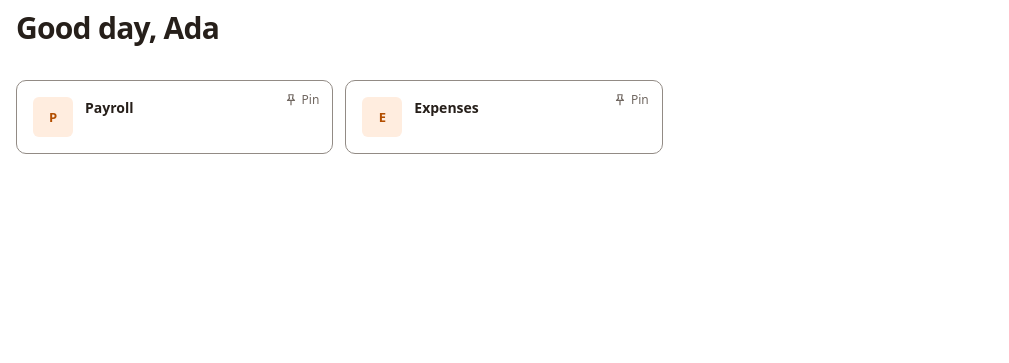
Test: Pinned and recently used › pins a tile into a row of its own, and remembers it for this user
Click the button with aria-label "Pin Expenses" at [631, 100], box [607,88,655,112]
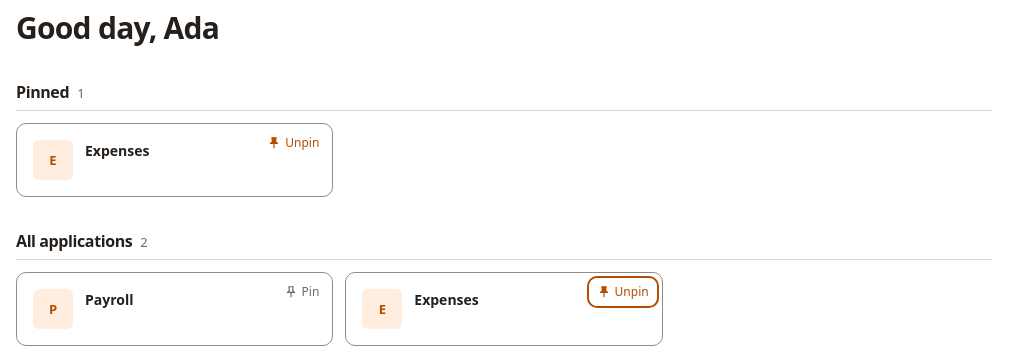
Now the text "Expenses" below "Pinned" is shown, box [85,141,150,160]
